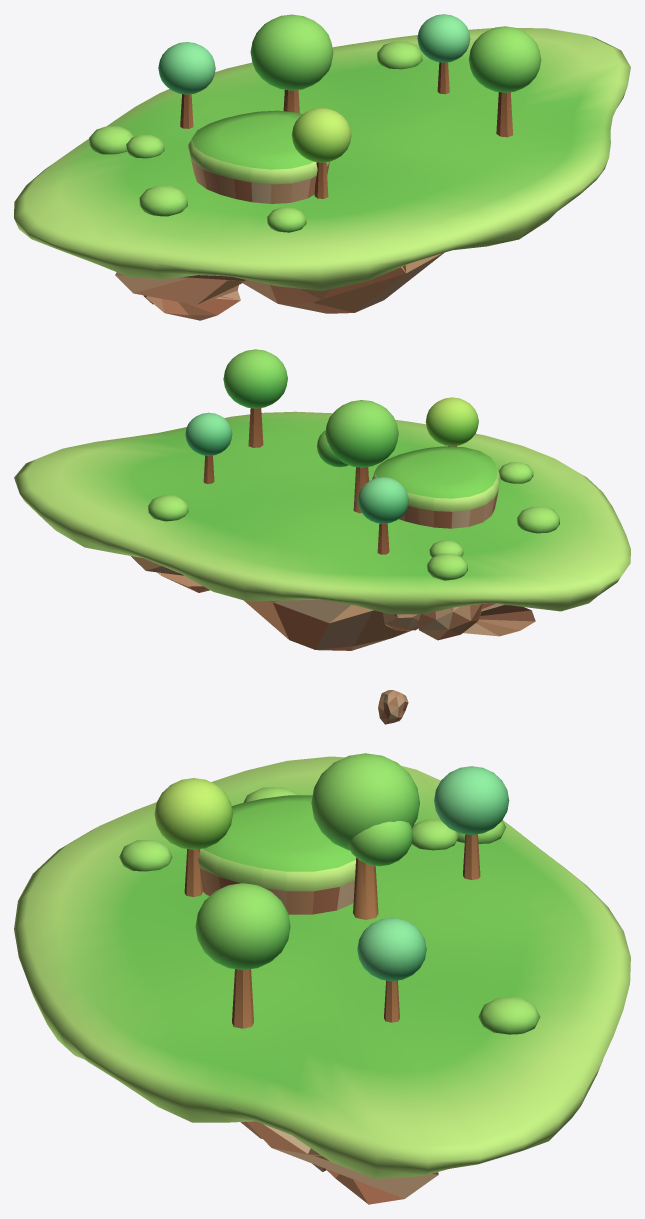
The model's file is island_b.glb.
3 renders of one model, top to bottom at view 1: azimuth 30°, elevation 25°; view 2: azimuth 150°, elevation 25°; view 3: azimuth 270°, elevation 25°, orthographic. The views are drawn at different scales.
Visible parts, largest first — view 1: Island; view 2: Island; view 3: Island.
Part boxes in pixels (bbox=[...]): Island: bbox=[14, 14, 630, 320]; Island: bbox=[14, 349, 630, 724]; Island: bbox=[14, 753, 630, 1204].
Bounding box in the file's own units: 40.28 × 18.3 × 26.
